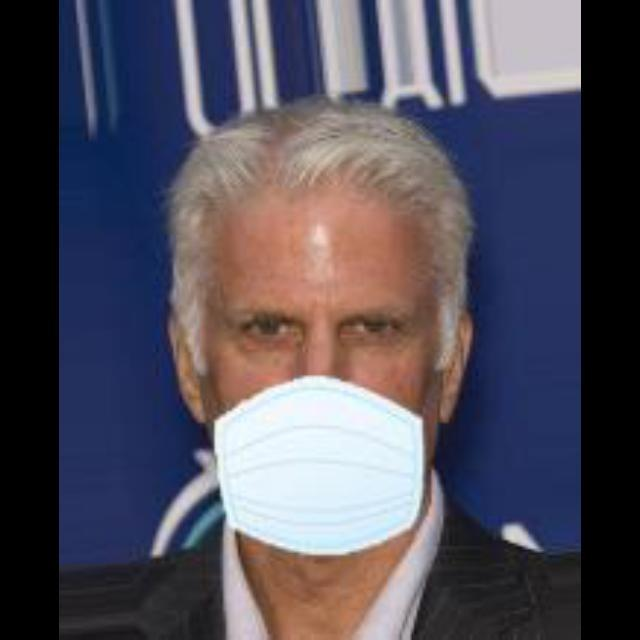suspicion: (146, 73, 510, 560)
